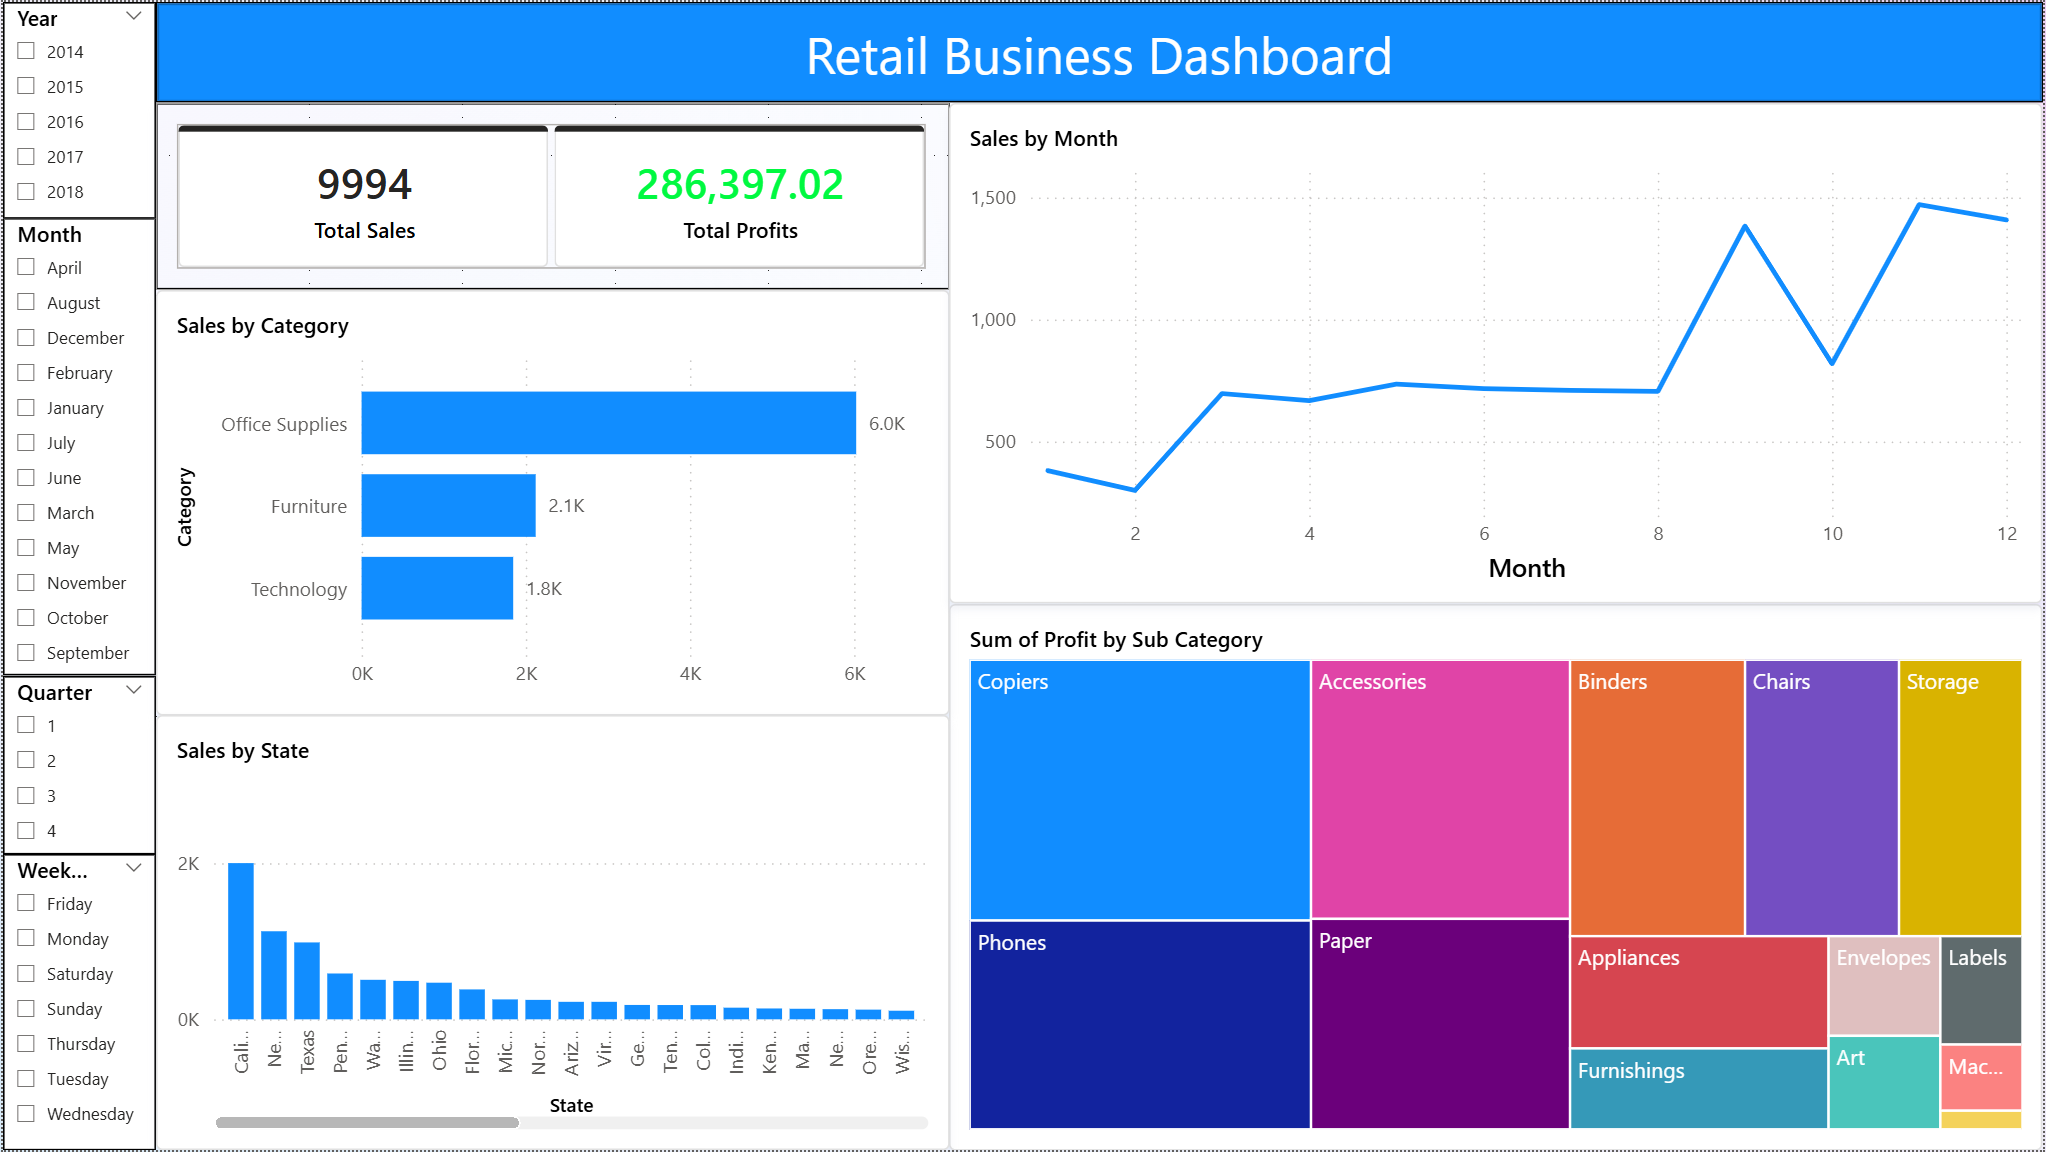

What the dashboard file says about the page in this screenshot:
{"tool":"powerbi","page":{"name":"Page 1","canvas":[1280,720],"ordinal":0},"visuals":[{"type":"treemap","title":"Sum of Profit by Sub Category","fields":{"Group":["Final Products.Sub_Category"],"Values":["Sum(Final FactSales.Profit)"]},"box":[593.6,377.7,686.4,342.6],"z":3000},{"type":"slicer","fields":{"Values":["Final Dates.Month_Name"]},"box":[0,135.5,96,287.4],"z":4000},{"type":"slicer","fields":{"Values":["Final Dates.Year"]},"box":[0,0,96,135.5],"z":5000},{"type":"slicer","fields":{"Values":["Final Dates.Quarter"]},"box":[0,422.9,96,111.7],"z":6000},{"type":"slicer","fields":{"Values":["Final Dates.Day_Name"]},"box":[0,534.6,96,185.7],"z":7000},{"type":"cardVisual","fields":{"Data":["CountNonNull(Final FactSales.Ship_Key)","Sum(Final FactSales.Profit)"]},"box":[96,63.4,497.6,117.3],"z":8000},{"type":"barChart","title":"Sales by Category","fields":{"Y":["CountNonNull(Final FactSales.Sales_Key)"],"Category":["Final Products.Category"]},"box":[96,180.7,497.6,266.7],"z":9000},{"type":"columnChart","title":"Sales by State","fields":{"Category":["Final Address.State"],"Y":["CountNonNull(Final FactSales.Order_ID)"]},"box":[96,447.4,497.6,272.9],"z":10000},{"type":"lineChart","title":"Sales by Month","fields":{"Y":["CountNonNull(Final FactSales.Order_ID)"],"Category":["Final Dates.Month"]},"box":[593.6,63.4,686.4,314.4],"z":11000},{"type":"shape","box":[96,0,1184,63.4],"z":12000}]}

Visuals, with their boxes in screenshot pixels (x1, y1, x2, y2):
"Sum of Profit by Sub Category" treemap: locate(936, 590, 2018, 1130)
slicer - Final Dates.Month_Name: locate(0, 208, 151, 661)
slicer - Final Dates.Year: locate(0, 0, 151, 208)
slicer - Final Dates.Quarter: locate(0, 661, 151, 837)
slicer - Final Dates.Day_Name: locate(0, 837, 151, 1130)
cardVisual - CountNonNull(Final FactSales.Ship_Key) x Sum(Final FactSales.Profit): locate(151, 95, 936, 280)
"Sales by Category" barChart: locate(151, 280, 936, 700)
"Sales by State" columnChart: locate(151, 700, 936, 1130)
"Sales by Month" lineChart: locate(936, 95, 2018, 590)
shape: locate(151, 0, 2018, 95)
